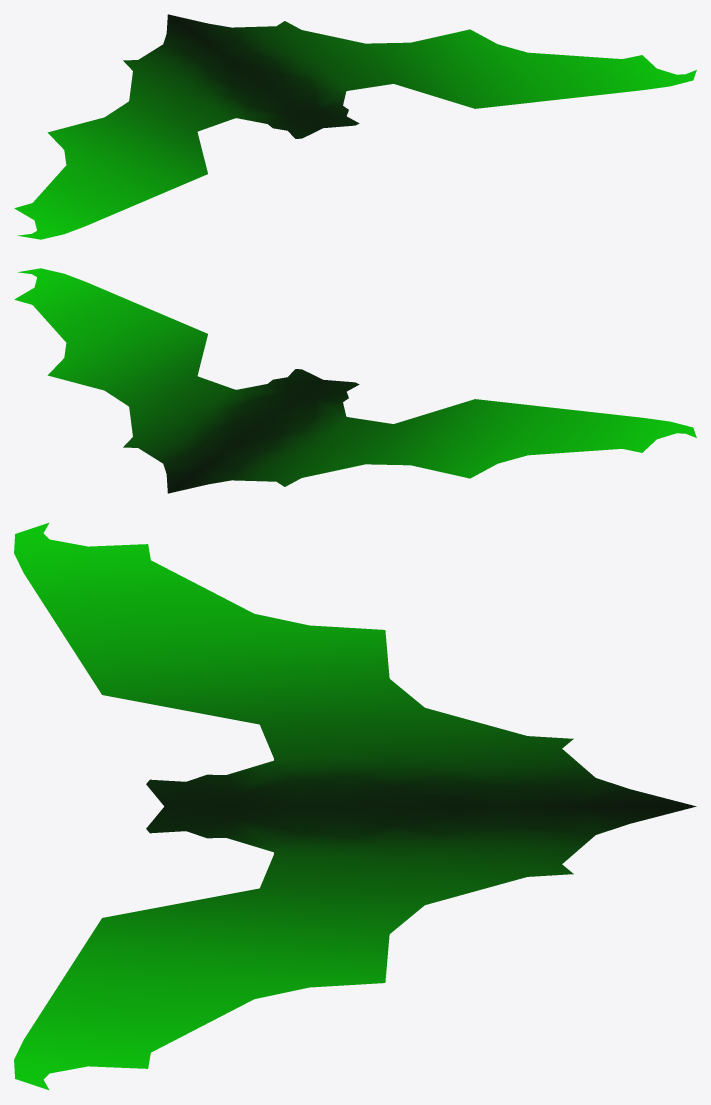
The model's file is Ghoster_Bat1.fbx.
The picture shows the model from 3 angles, top to bottom: view 1: azimuth 30°, elevation 25°; view 2: azimuth 150°, elevation 25°; view 3: azimuth 270°, elevation 25°; orthographic projection. The views are drawn at different scales.
Visible parts, largest first — view 1: Bat1; view 2: Bat1; view 3: Bat1.
Part boxes in pixels (x1,y1,x2,y2): Bat1: (14, 14, 696, 239); Bat1: (14, 268, 696, 493); Bat1: (14, 523, 696, 1089).
Bounding box in the file's own units: 51.08 × 3.06e-14 × 25.96.
